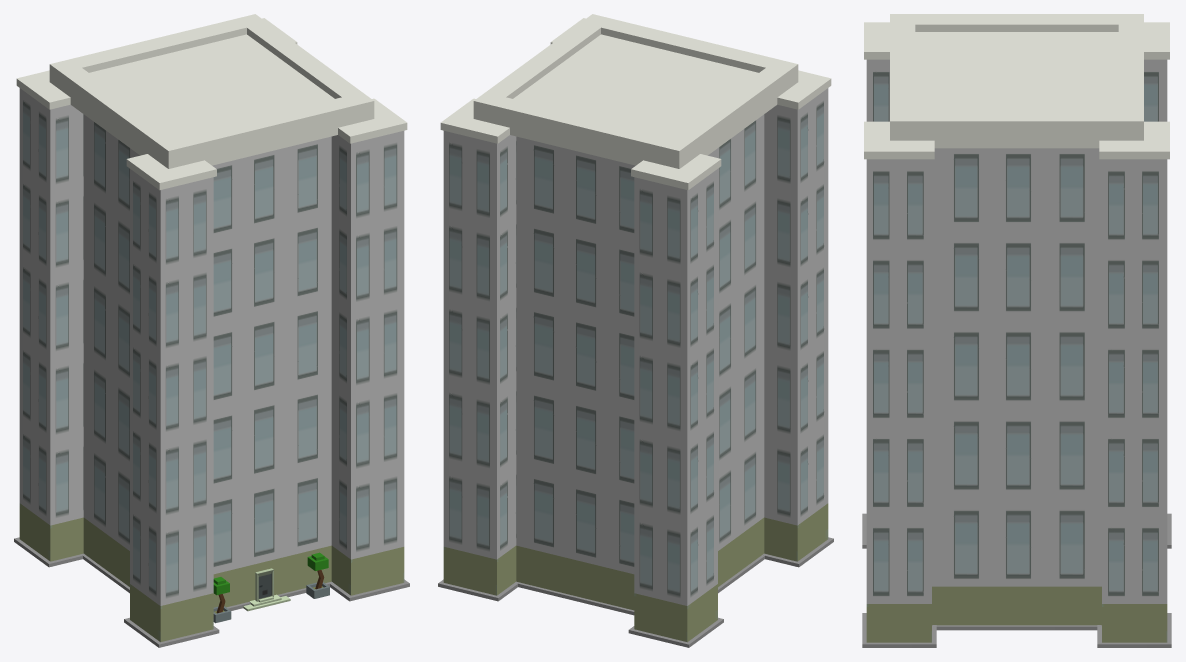
Rendered from Corner Pilars Basic Five Floor.fbx.
3 views of the same model, side by side, from view 1: azimuth 30°, elevation 25°; view 2: azimuth 150°, elevation 25°; view 3: azimuth 270°, elevation 25° (orthographic). The views are drawn at different scales.
Visible parts, largest first — view 1: Corner Pilars Basic Five Floor; view 2: Corner Pilars Basic Five Floor; view 3: Corner Pilars Basic Five Floor.
Boxes of the visible parts, x1,y1,x2,y2 form: Corner Pilars Basic Five Floor: [14, 14, 409, 647]; Corner Pilars Basic Five Floor: [438, 14, 833, 647]; Corner Pilars Basic Five Floor: [862, 14, 1171, 647].
Size of the model in its own units: 7.37 by 13.53 by 7.37.
